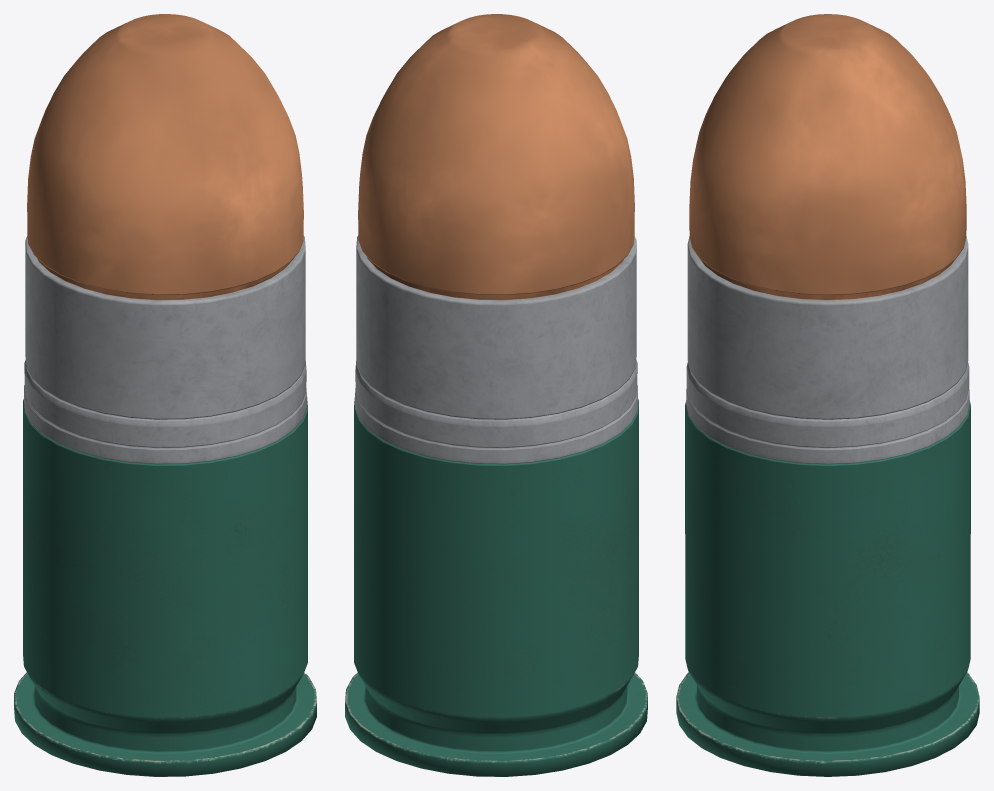
File: grenade-2.gltf
The picture shows the model from 3 angles, left to right: view 1: azimuth 30°, elevation 25°; view 2: azimuth 150°, elevation 25°; view 3: azimuth 270°, elevation 25°; orthographic projection.
Parts seen in each view (by area): view 1: _Mesh003; view 2: _Mesh003; view 3: _Mesh003.
Boxes of the visible parts, left/top/right/bottom form: _Mesh003: left=14, top=14, right=316, bottom=776; _Mesh003: left=345, top=14, right=647, bottom=776; _Mesh003: left=676, top=14, right=979, bottom=776.
Bounding box in the file's own units: 40 × 99 × 40.
1 material, 1 textured.
